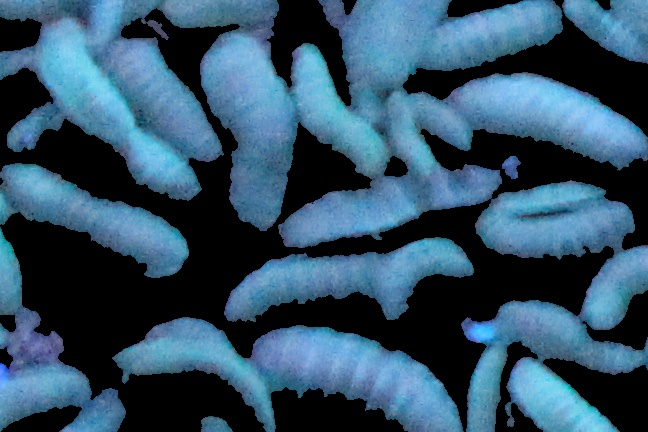larvae: (258, 329, 465, 432), (5, 164, 186, 279), (200, 37, 297, 230), (275, 167, 493, 247), (446, 77, 643, 164), (102, 38, 224, 165), (122, 336, 276, 432), (285, 47, 382, 173), (481, 181, 624, 260), (37, 24, 131, 142), (500, 301, 645, 373), (222, 253, 370, 321), (423, 1, 562, 66), (506, 358, 619, 432), (352, 1, 446, 87), (377, 238, 474, 317), (580, 243, 648, 328), (1, 365, 90, 428), (562, 1, 648, 62), (119, 136, 201, 199), (380, 87, 432, 176), (466, 347, 510, 432), (157, 1, 277, 29), (149, 318, 233, 355), (411, 92, 469, 145), (83, 1, 128, 44)
